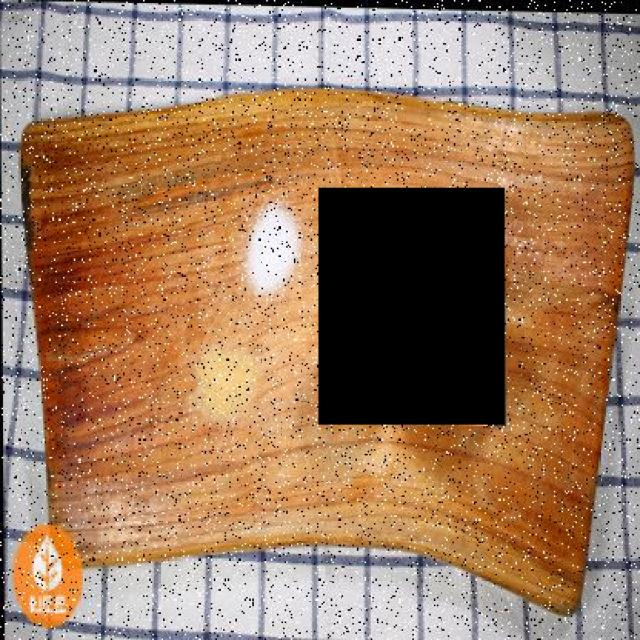Egg: (318, 187, 504, 425)
